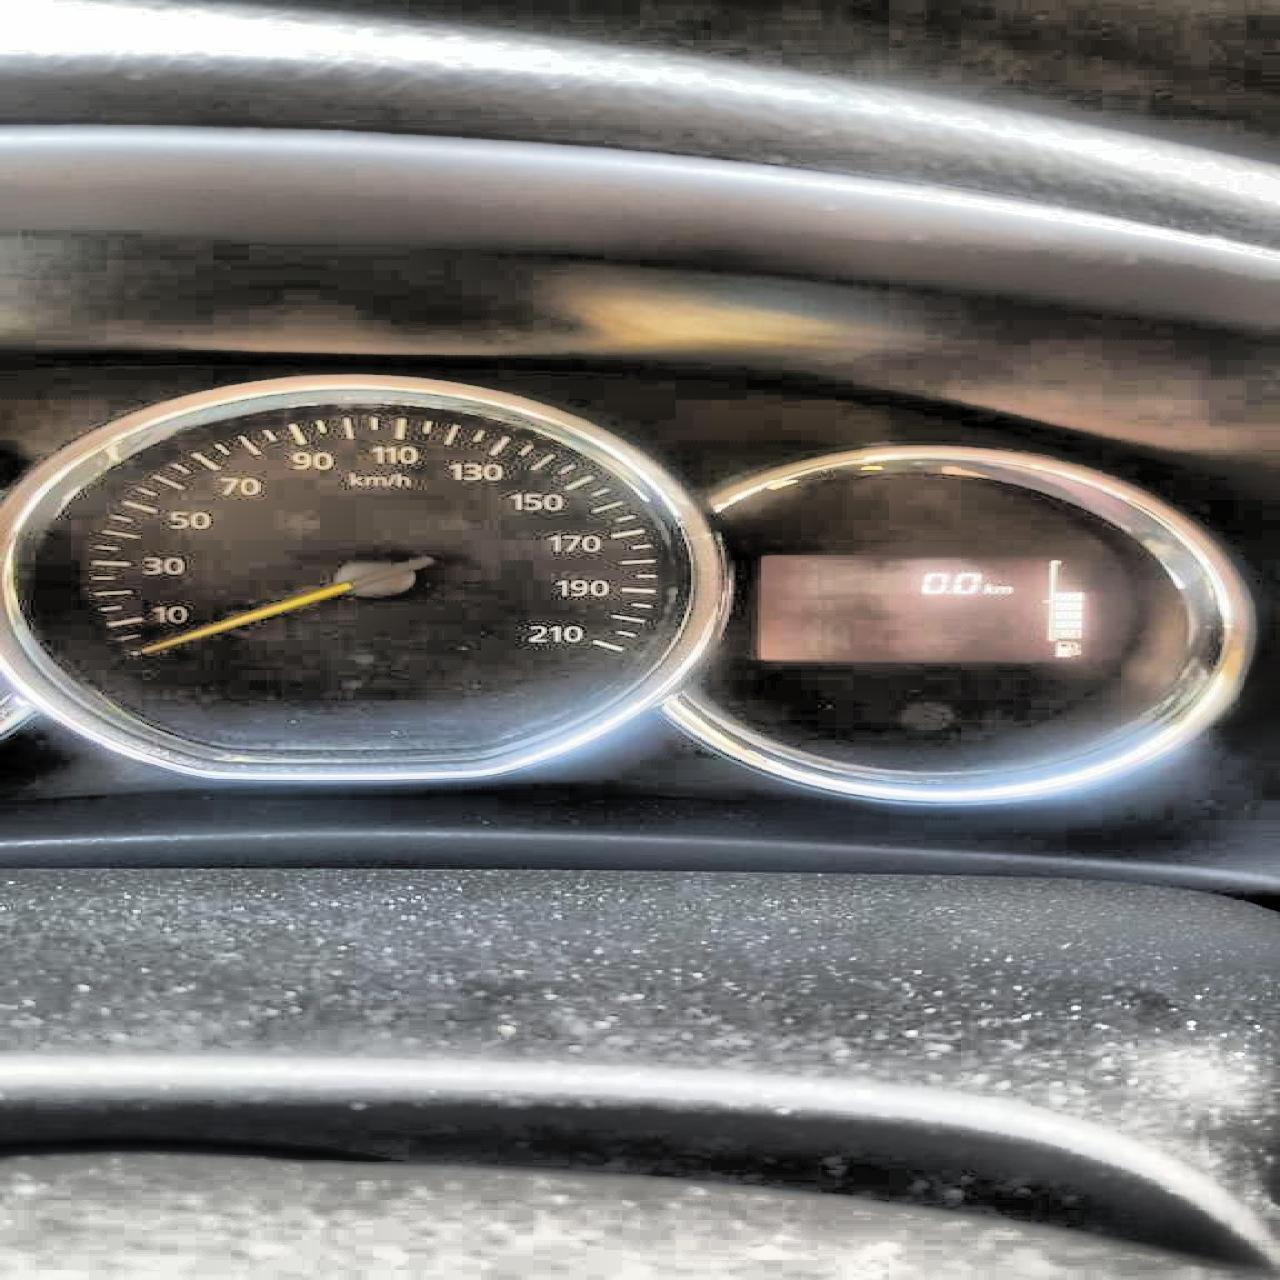-: (942, 588, 953, 593)
0: (915, 570, 946, 594), (951, 571, 980, 594)
X: (980, 581, 993, 594), (993, 584, 1012, 592)
odometer: (740, 546, 1114, 669)
